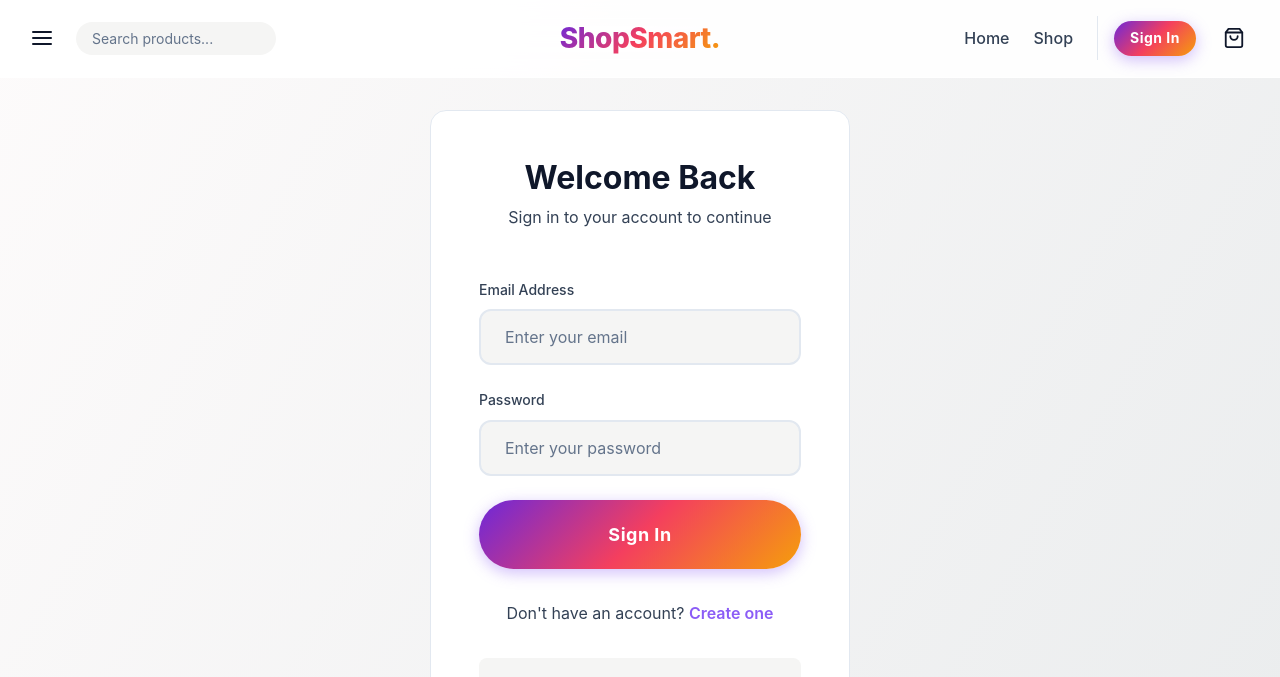
Test: E-Commerce User Flow › should login, browse products, add to cart, and view cart
Expected: the heading "Welcome Back" is shown, [525, 158, 755, 197]
# ─── Step 2: Fill in credentials and submit ───
In the field with id "email": (640, 337) [479, 309, 801, 365], type "john@example.com"
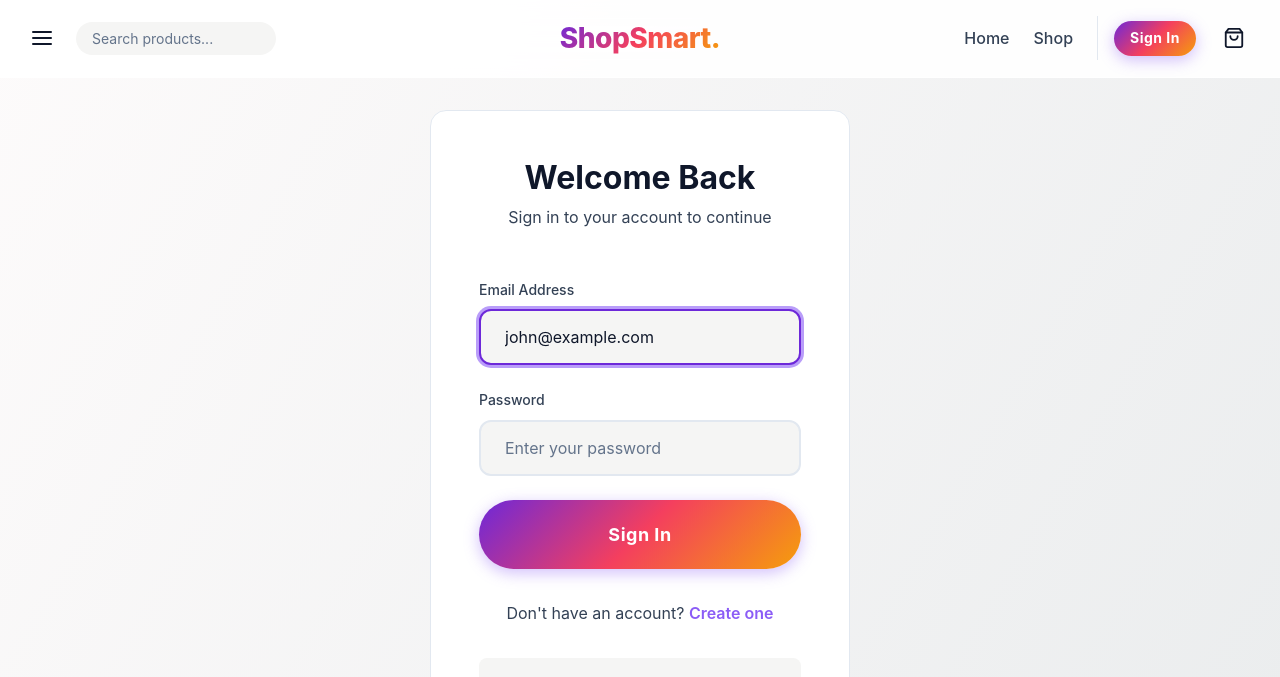
In the password field labelled "Password": (640, 448) [479, 420, 801, 476], type "password123"
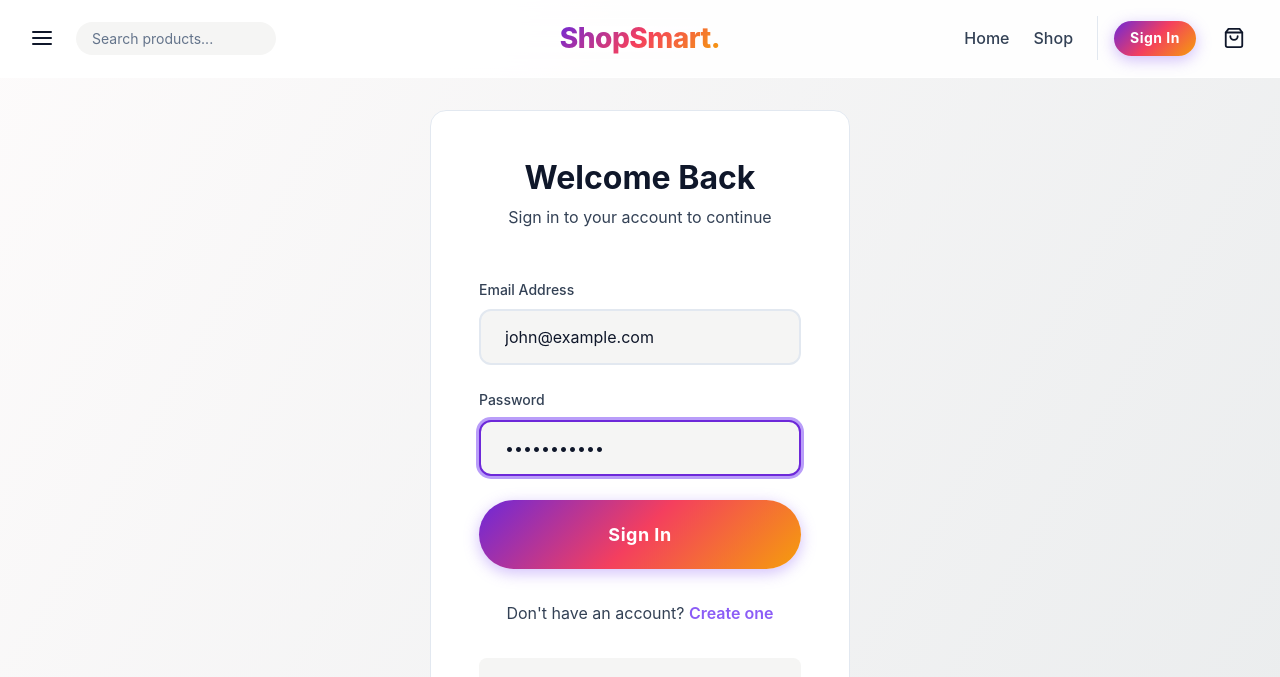
Click the submit button: (640, 535) [479, 500, 801, 569]
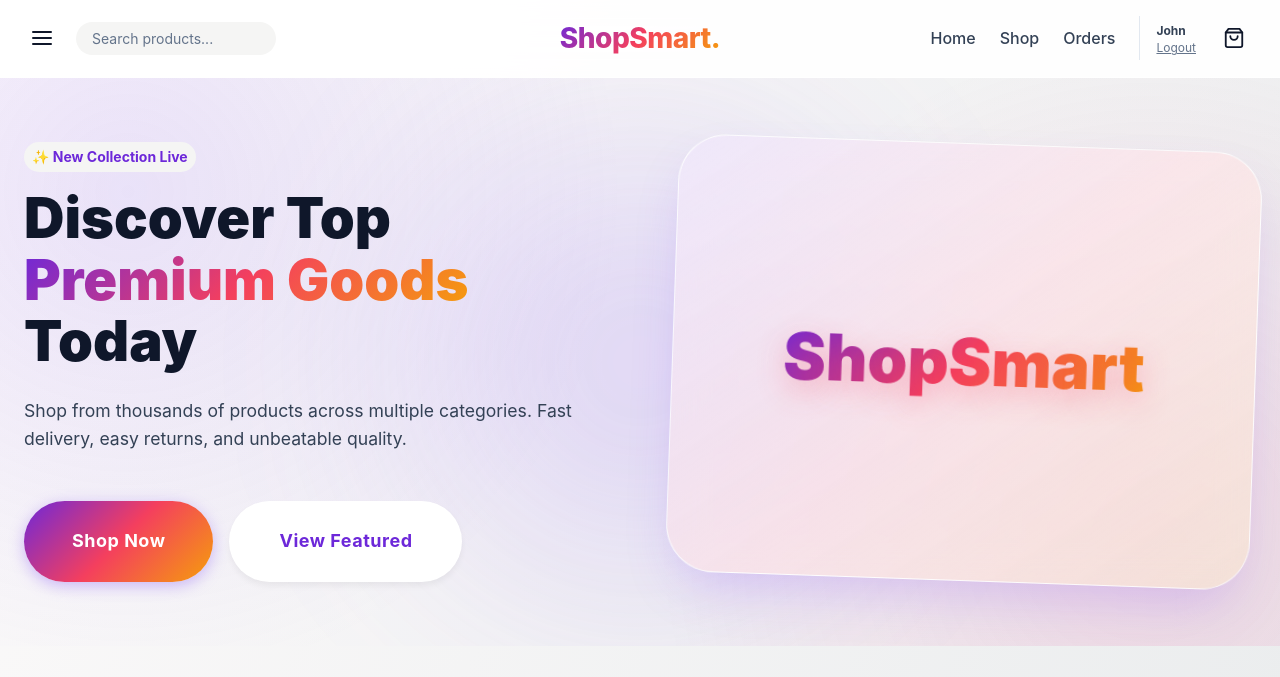
Expected: the button "Logout" is shown, [1156, 40, 1196, 56]
Click the link to "/products": (1020, 39) [1000, 26, 1040, 52]
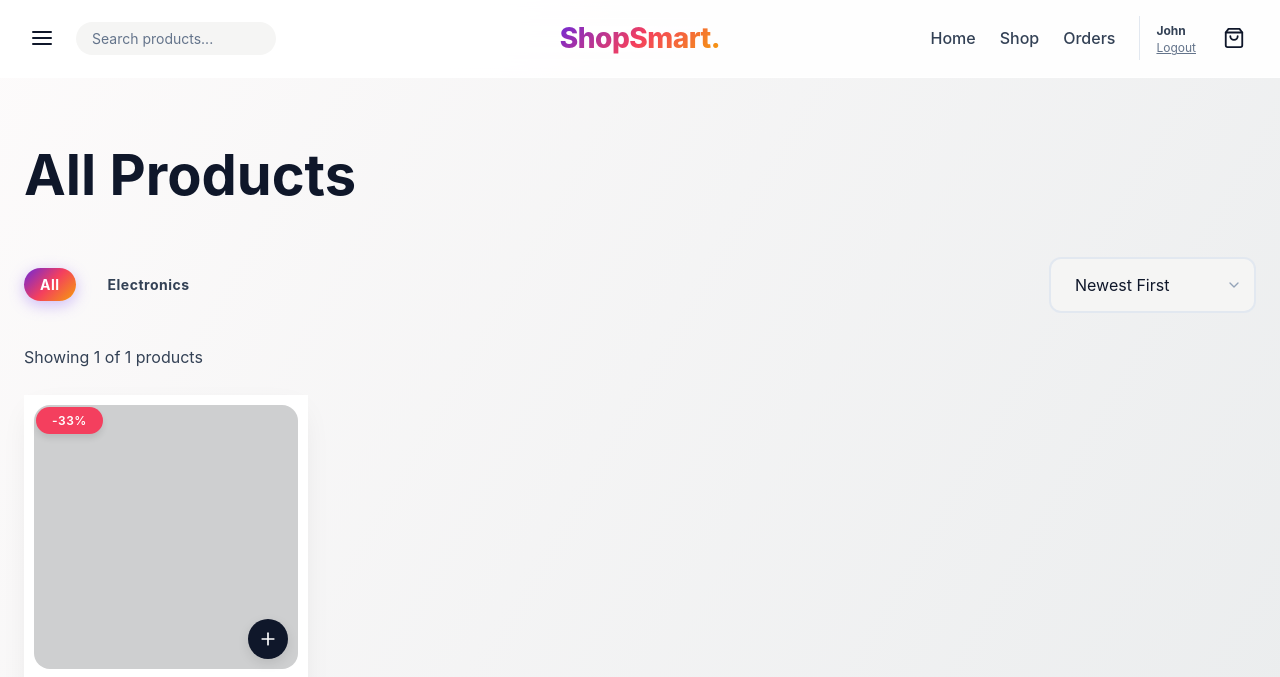
Click the button titled "Add to Cart": (268, 639) [248, 619, 288, 659]
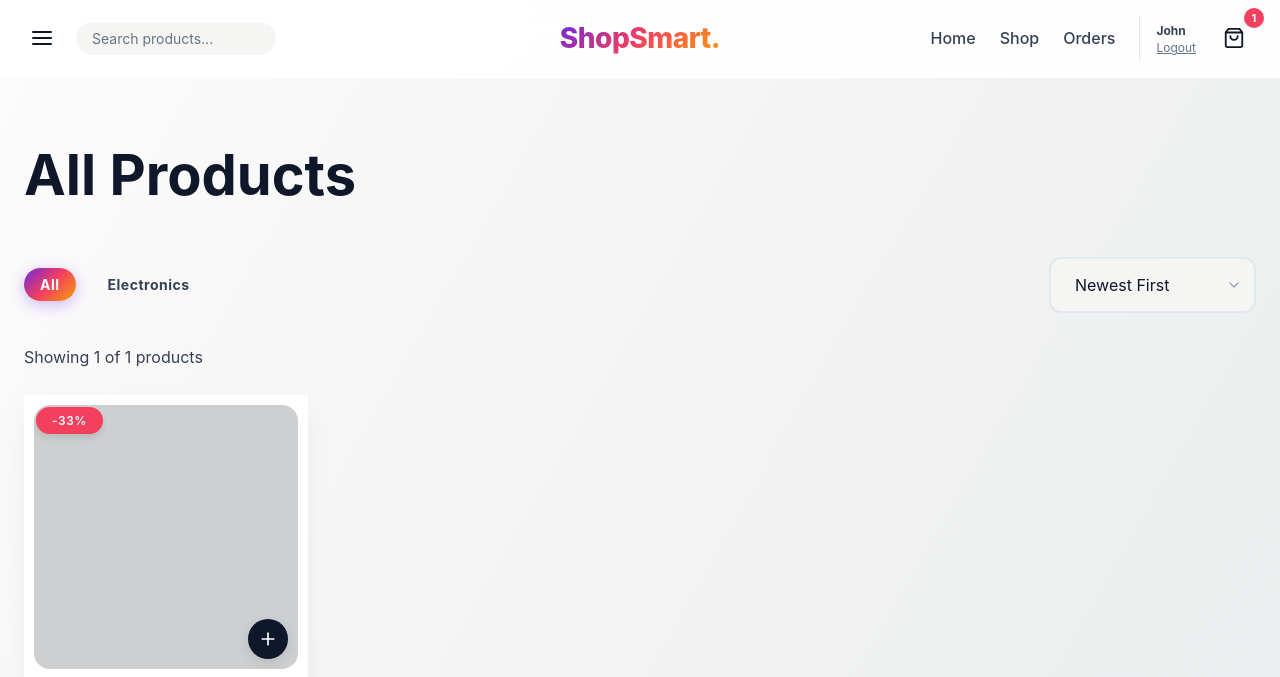
Click the link to "/cart": (1234, 38) [1212, 16, 1256, 60]
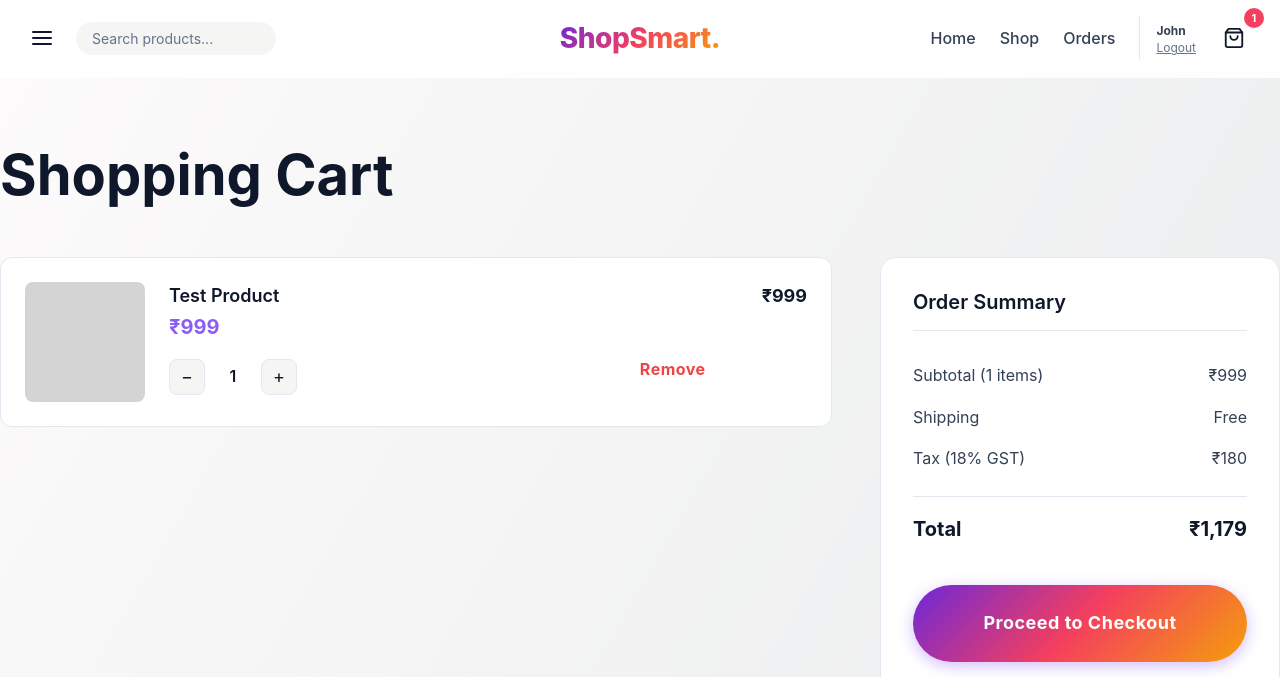
Expected: the link "Test Product" is shown, [169, 285, 279, 306]
Expected: the heading "Shopping Cart" is shown, [0, 141, 394, 209]
Expected: the number of elements with class "cart-item" is 1, [0, 257, 832, 427]
